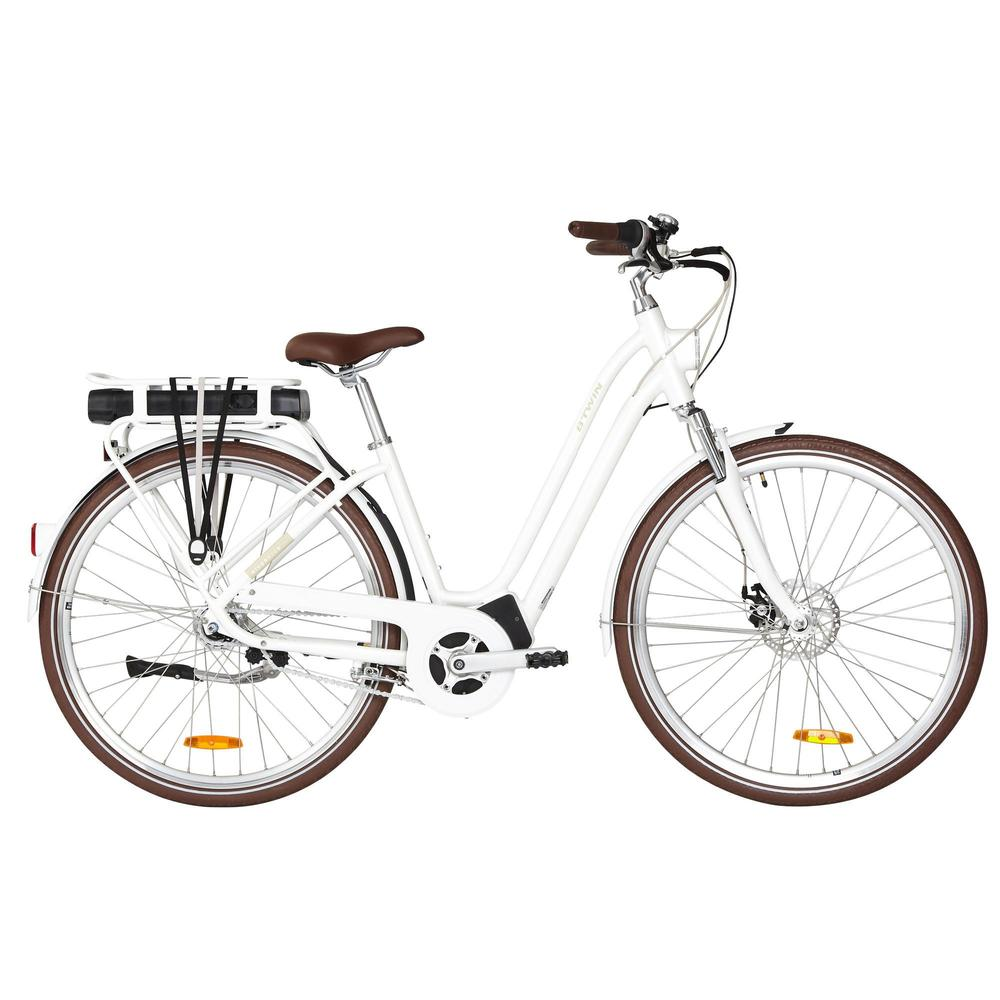UrbanBike: (29, 206, 998, 830)
